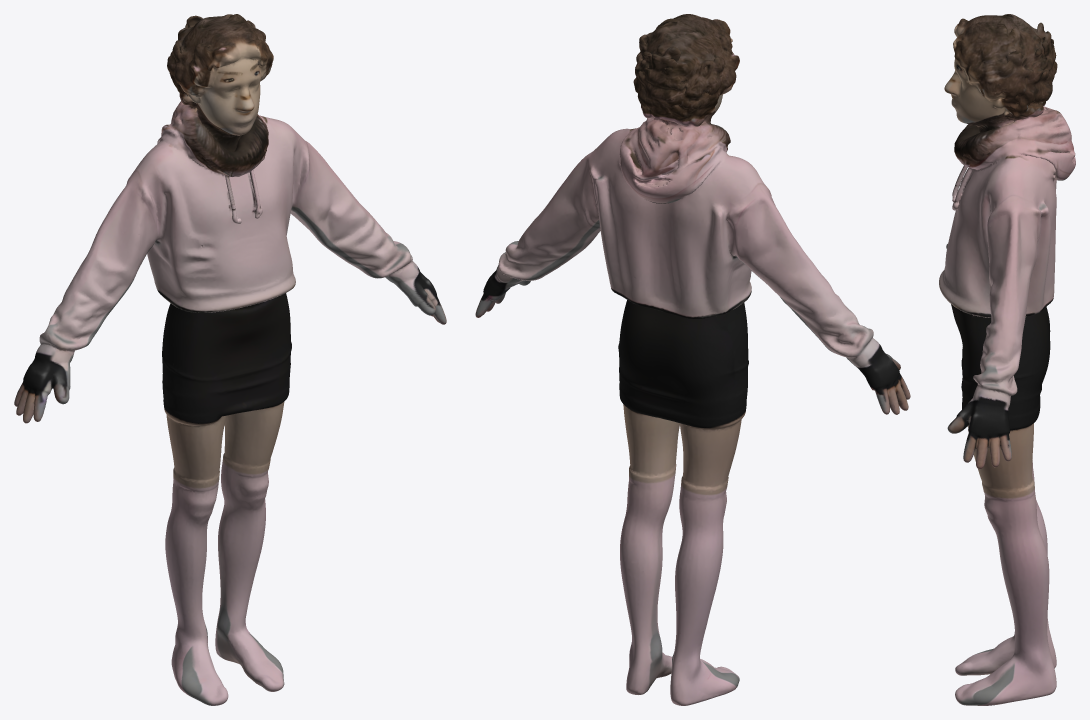
The model's file is rot.glb.
The picture shows the model from 3 angles, left to right: view 1: azimuth 30°, elevation 25°; view 2: azimuth 150°, elevation 25°; view 3: azimuth 270°, elevation 25°; orthographic projection.
Parts seen in each view (by area): view 1: tripo_node_cef20fce-9cec-479c-ba12-c36e700b98c5; view 2: tripo_node_cef20fce-9cec-479c-ba12-c36e700b98c5; view 3: tripo_node_cef20fce-9cec-479c-ba12-c36e700b98c5.
Part boxes in pixels (x1,y1,x2,y2): tripo_node_cef20fce-9cec-479c-ba12-c36e700b98c5: [14, 14, 446, 705]; tripo_node_cef20fce-9cec-479c-ba12-c36e700b98c5: [475, 14, 910, 705]; tripo_node_cef20fce-9cec-479c-ba12-c36e700b98c5: [939, 14, 1075, 705].
Size of the model in its own units: 0.6621 by 1 by 0.186.
Materials: 1 (1 with a texture image).
